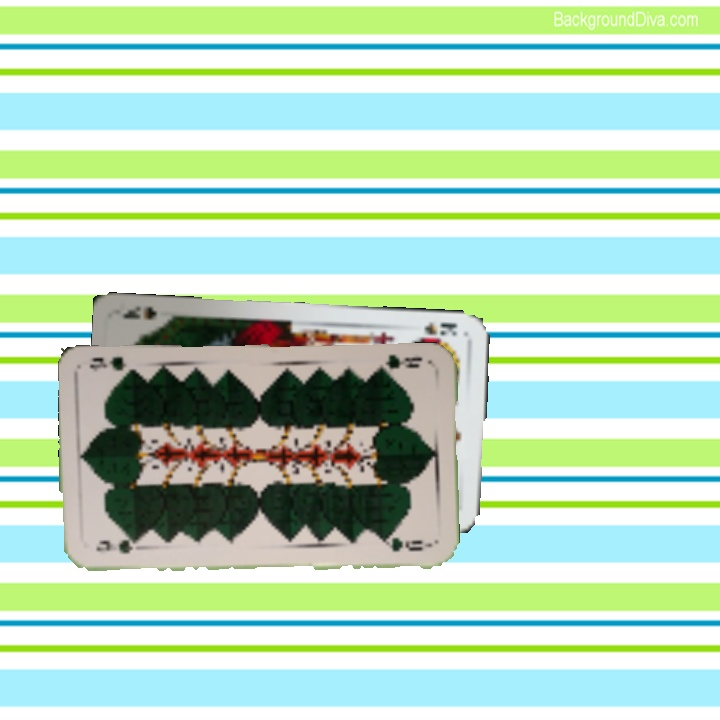G9: (373, 351, 425, 377), (92, 537, 143, 556)
SK: (420, 317, 460, 338)
